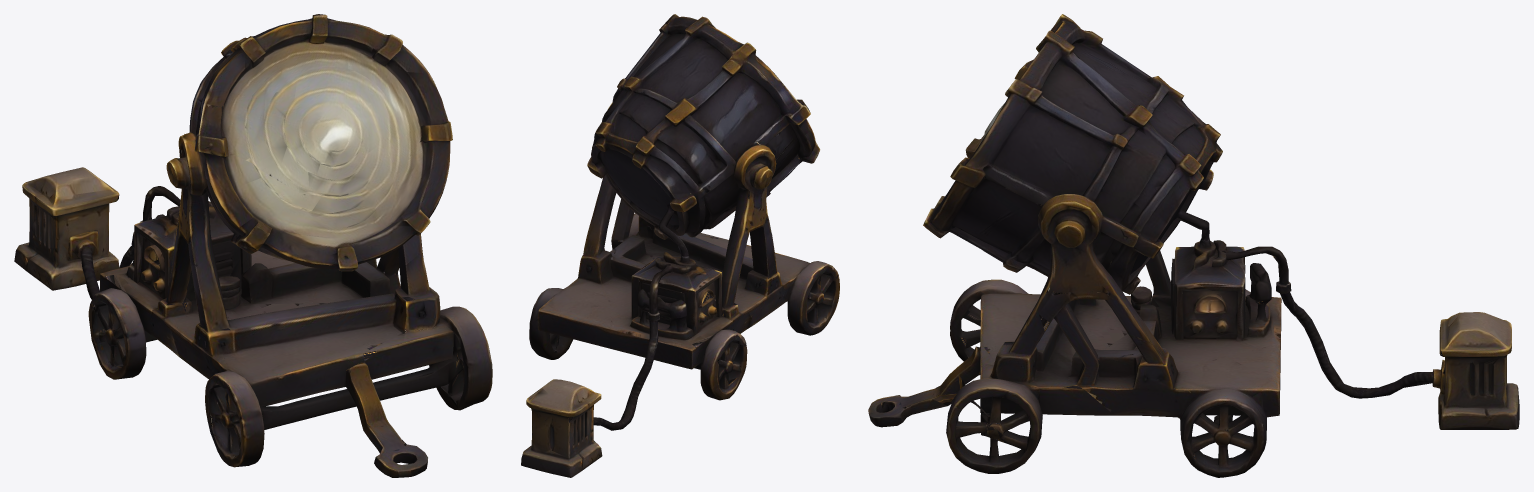
File: arc-lamp-a.glb
The picture shows the model from 3 angles, left to right: view 1: azimuth 30°, elevation 25°; view 2: azimuth 150°, elevation 25°; view 3: azimuth 270°, elevation 25°; orthographic projection. The views are drawn at different scales.
Parts seen in each view (by area): view 1: SM_ArcLampA; view 2: SM_ArcLampA; view 3: SM_ArcLampA.
Boxes of the visible parts, bbox=[...] form: SM_ArcLampA: bbox=[14, 14, 492, 477]; SM_ArcLampA: bbox=[521, 14, 839, 477]; SM_ArcLampA: bbox=[868, 14, 1519, 477].
Size of the model in its own units: 0.8352 by 1.29 by 1.9.
1 material, 1 textured.
